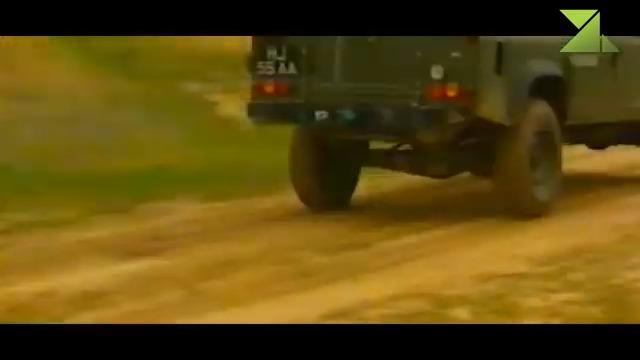MIL_HMMWV: (245, 38, 640, 218)
